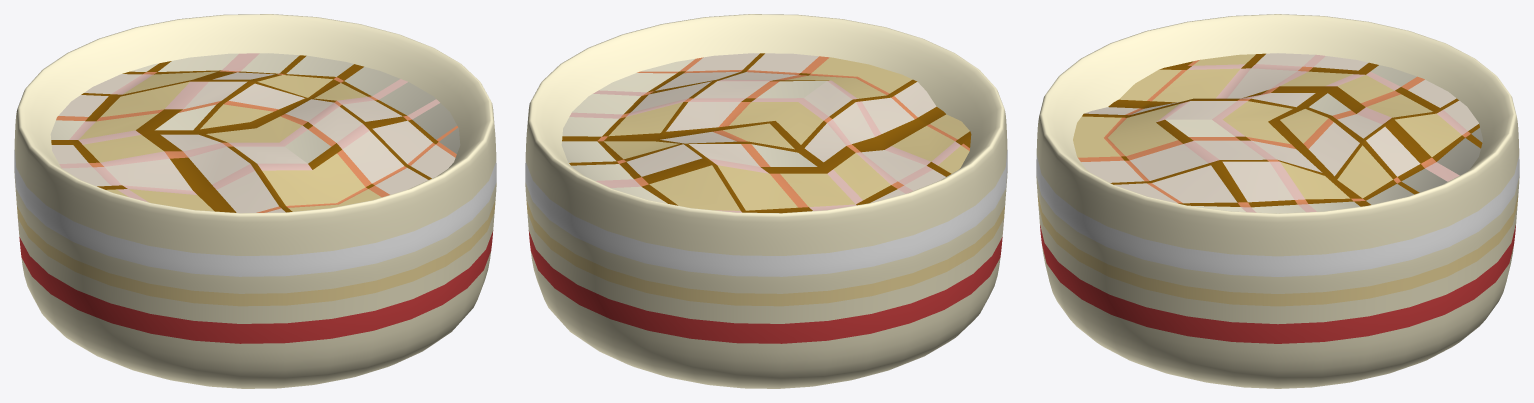
Rendered from chicken_bowl_v1.fbx.
3 renders of one model, left to right at view 1: azimuth 30°, elevation 25°; view 2: azimuth 150°, elevation 25°; view 3: azimuth 270°, elevation 25°, orthographic.
Parts seen in each view (by area): view 1: meat_bowl_v2:lettuce_bowl_v2:nurbsToPoly37, meat_bowl_v2:pDisc1; view 2: meat_bowl_v2:lettuce_bowl_v2:nurbsToPoly37, meat_bowl_v2:pDisc1; view 3: meat_bowl_v2:lettuce_bowl_v2:nurbsToPoly37, meat_bowl_v2:pDisc1.
Part boxes in pixels (box(x1,y1,x2,y2)): meat_bowl_v2:lettuce_bowl_v2:nurbsToPoly37: box(14, 14, 496, 388); meat_bowl_v2:pDisc1: box(51, 53, 459, 213); meat_bowl_v2:lettuce_bowl_v2:nurbsToPoly37: box(525, 14, 1007, 388); meat_bowl_v2:pDisc1: box(562, 53, 971, 213); meat_bowl_v2:lettuce_bowl_v2:nurbsToPoly37: box(1036, 14, 1519, 388); meat_bowl_v2:pDisc1: box(1073, 53, 1482, 213).
Bounding box in the file's own units: 8.64 × 4.71 × 8.64.
